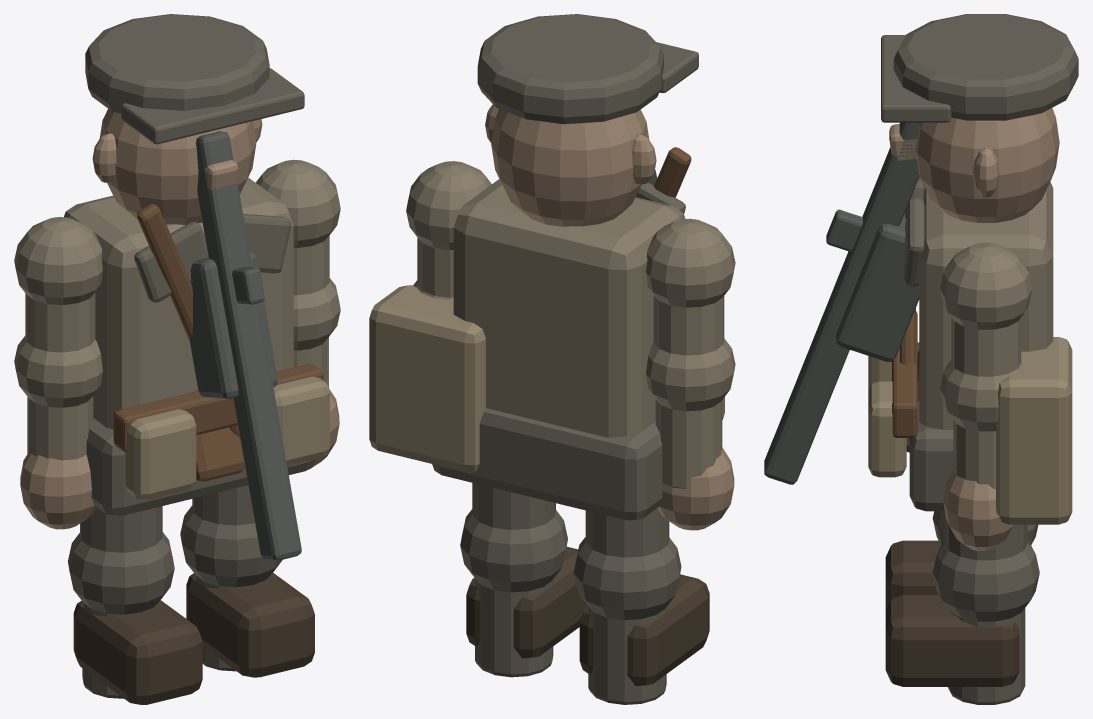
File: Model_EnemyRifleman.glb
3 renders of one model, left to right at view 1: azimuth 30°, elevation 25°; view 2: azimuth 150°, elevation 25°; view 3: azimuth 270°, elevation 25°, orthographic.
Parts seen in each view (by area): view 1: Asset_EnemyRifleman_BodyMesh, Arm_L_Mesh.004, Leg_L_Mesh.004, Leg_R_Mesh.004, Arm_R_Mesh.004; view 2: Asset_EnemyRifleman_BodyMesh, Arm_L_Mesh.004, Leg_L_Mesh.004, Leg_R_Mesh.004, Arm_R_Mesh.004; view 3: Asset_EnemyRifleman_BodyMesh, Leg_R_Mesh.004, Arm_R_Mesh.004, Leg_L_Mesh.004.
Boxes of the visible parts, box(x1,y1,x2,y2) form: Asset_EnemyRifleman_BodyMesh: box(64, 14, 329, 560); Arm_L_Mesh.004: box(14, 217, 102, 529); Leg_L_Mesh.004: box(68, 506, 202, 704); Leg_R_Mesh.004: box(180, 485, 314, 677); Arm_R_Mesh.004: box(255, 159, 340, 469); Asset_EnemyRifleman_BodyMesh: box(369, 14, 724, 520); Arm_L_Mesh.004: box(646, 218, 735, 530); Leg_L_Mesh.004: box(573, 508, 709, 704); Leg_R_Mesh.004: box(460, 483, 587, 677); Arm_R_Mesh.004: box(406, 161, 491, 300); Asset_EnemyRifleman_BodyMesh: box(764, 14, 1078, 524); Leg_R_Mesh.004: box(885, 511, 1039, 704); Arm_R_Mesh.004: box(940, 242, 1032, 550); Leg_L_Mesh.004: box(885, 511, 1038, 610).
Size of the model in its own units: 1.14 by 2.13 by 0.9861.
